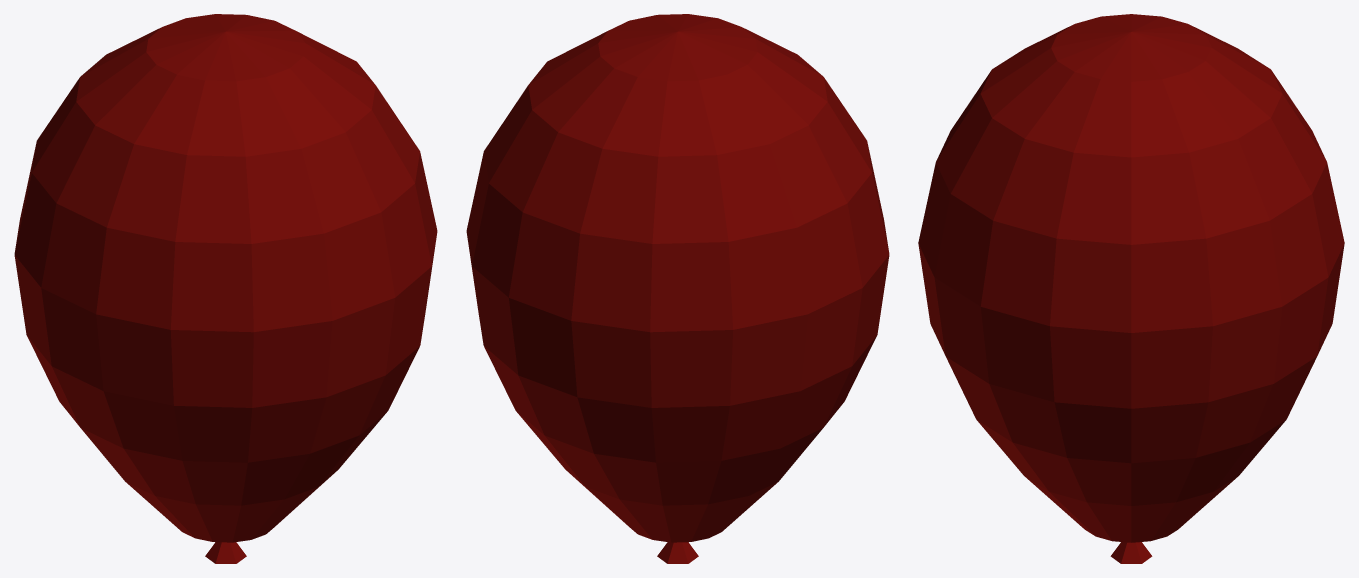
File: BalloonNormal.glb
3 views of the same model, side by side, from view 1: azimuth 30°, elevation 25°; view 2: azimuth 150°, elevation 25°; view 3: azimuth 270°, elevation 25° (orthographic).
Parts seen in each view (by area): view 1: Sphere; view 2: Sphere; view 3: Sphere.
Boxes of the visible parts, x1,y1,x2,y2 form: Sphere: (14, 14, 437, 563); Sphere: (466, 14, 889, 563); Sphere: (918, 14, 1344, 563).
Size of the model in its own units: 54.91 by 74.52 by 54.91.
